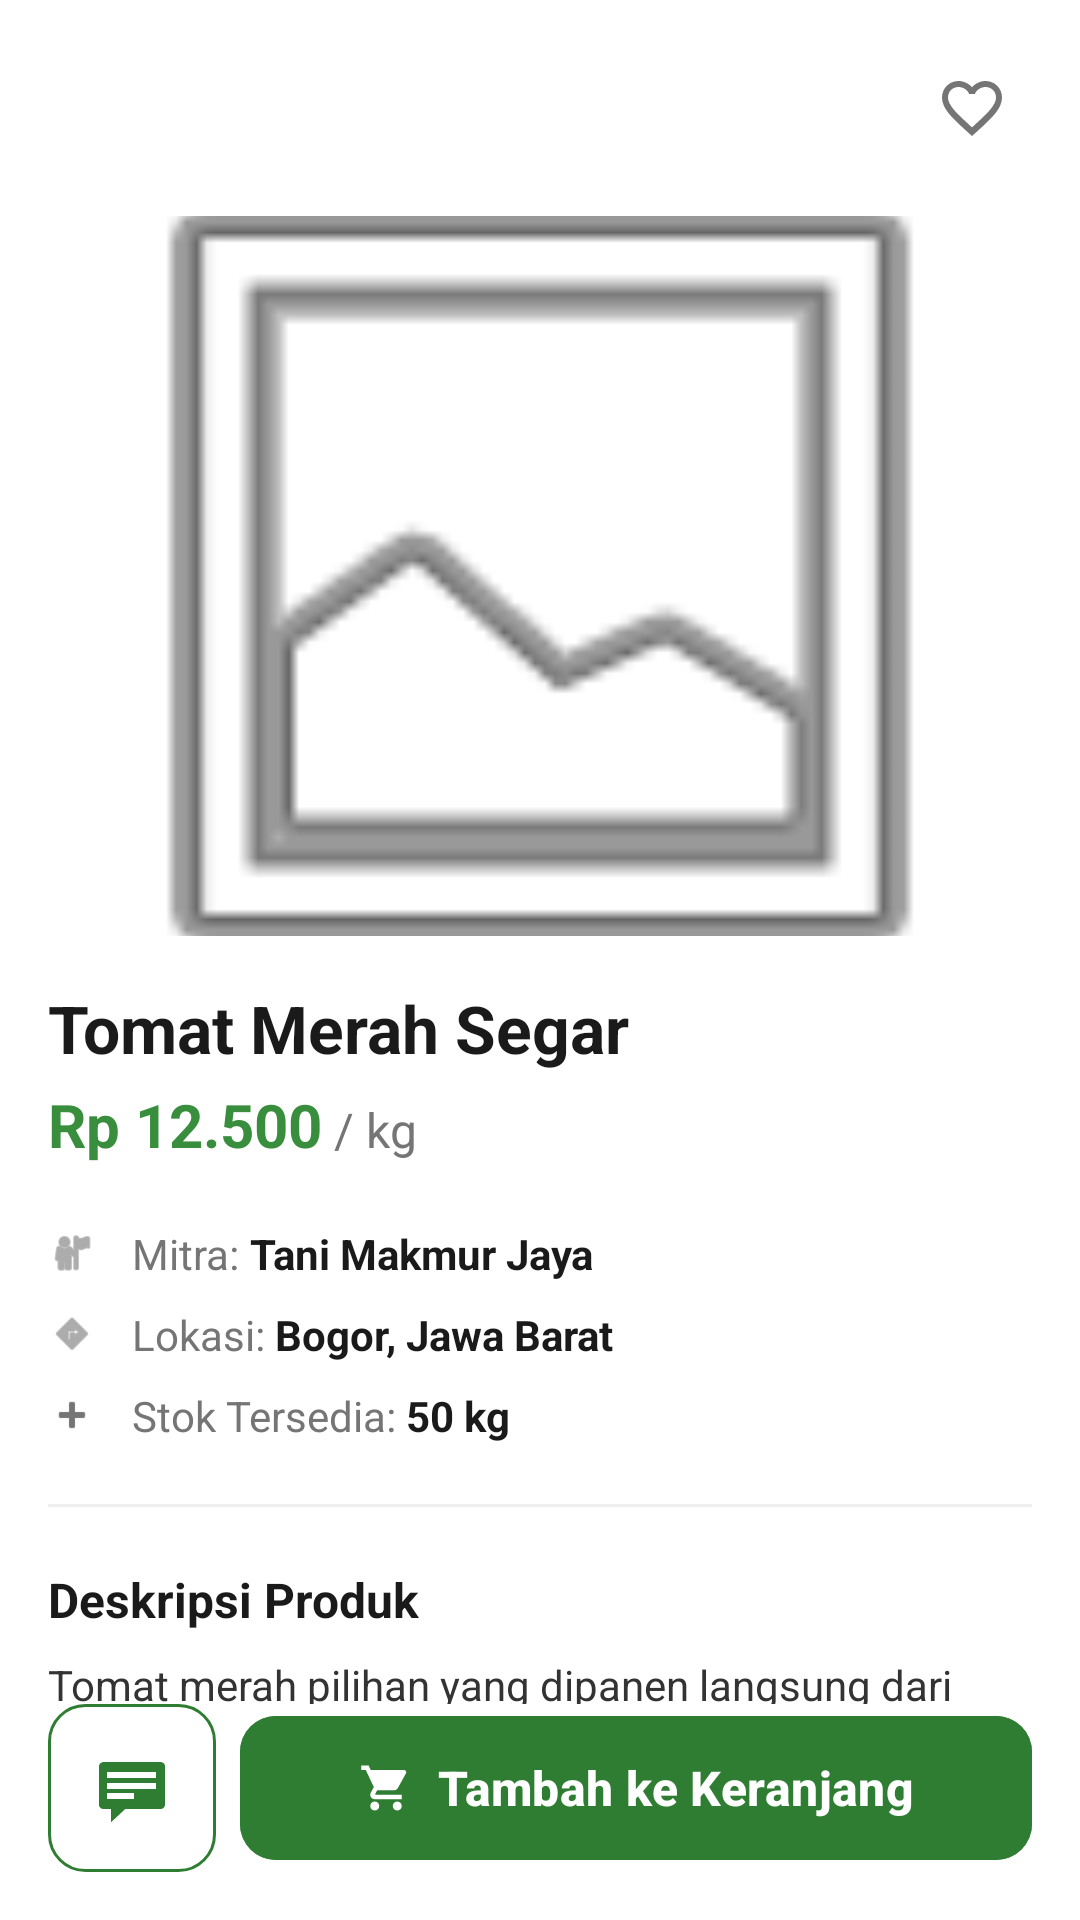

Icons on this 1080px×1920px Android screen, each with the point to tap as (x=x, y=y):
add: (x=72, y=1415)
chat: (x=132, y=1788)
directions: (x=72, y=1333)
heart: (x=972, y=108)
